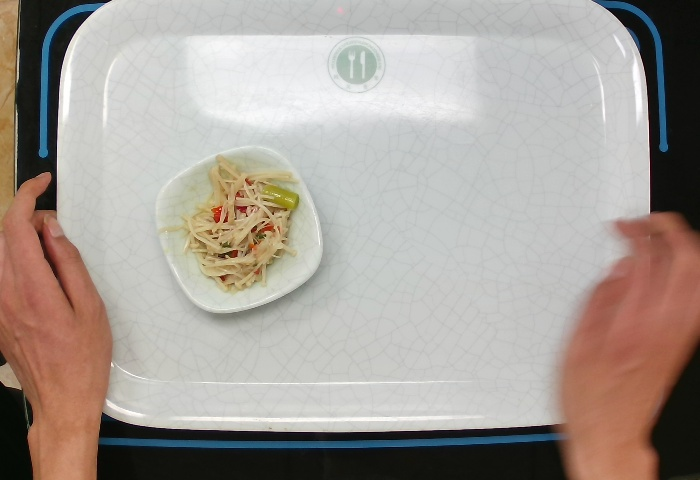JYsf-Si_Fang_Die: (149, 136, 334, 318)
